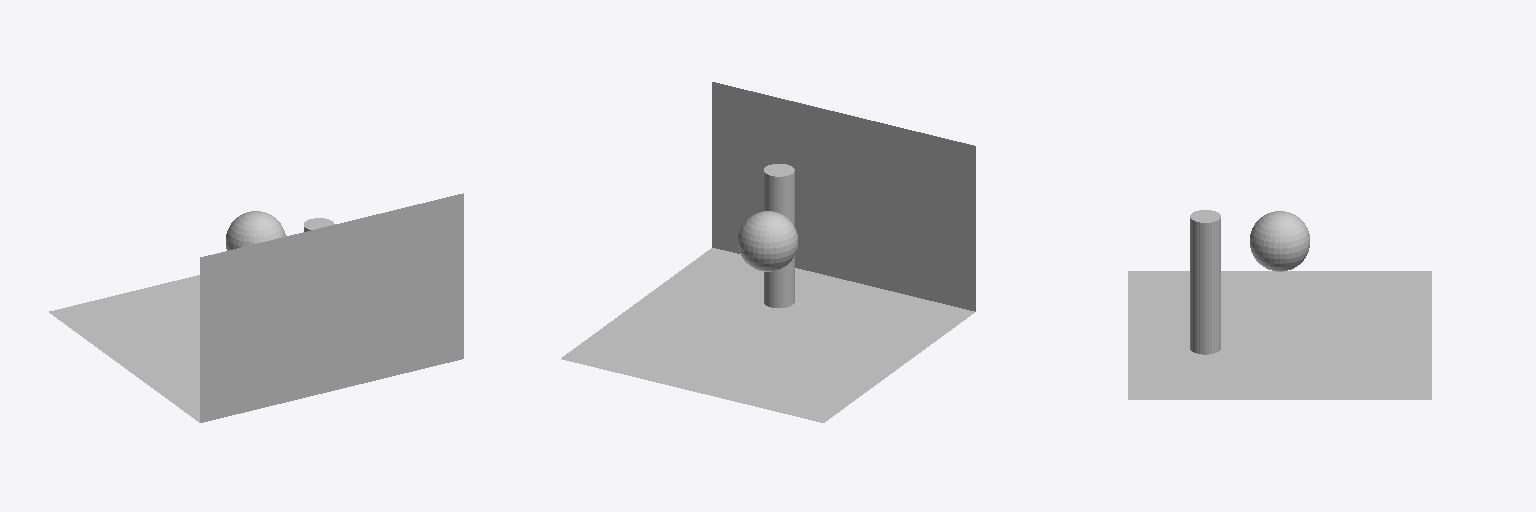
The picture shows the model from 3 angles: view 1: azimuth 30°, elevation 25°; view 2: azimuth 150°, elevation 25°; view 3: azimuth 270°, elevation 25°; orthographic projection.
Parts seen in each view (by area): view 1: test; view 2: test; view 3: test.
Part boxes in pixels (x1,y1,x2,y2): test: (49,193,463,422); test: (561,82,975,422); test: (1128,210,1431,399).
Size of the model in its own units: 10 by 6.26 by 10.